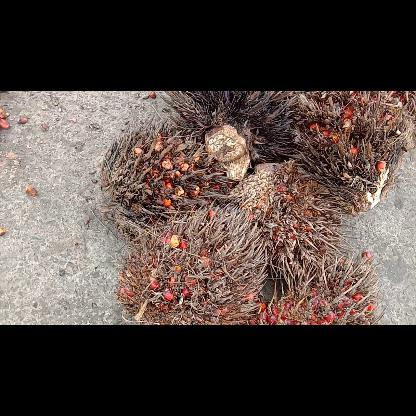Terlalu masak: (117, 200, 267, 324), (102, 118, 233, 237), (286, 90, 410, 214), (229, 163, 351, 277), (161, 90, 292, 180), (250, 252, 382, 324)
